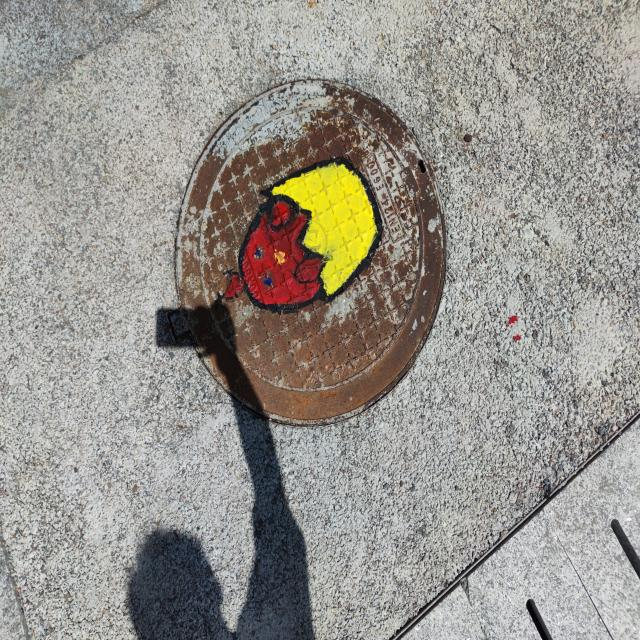Good: (170, 75, 453, 434)
